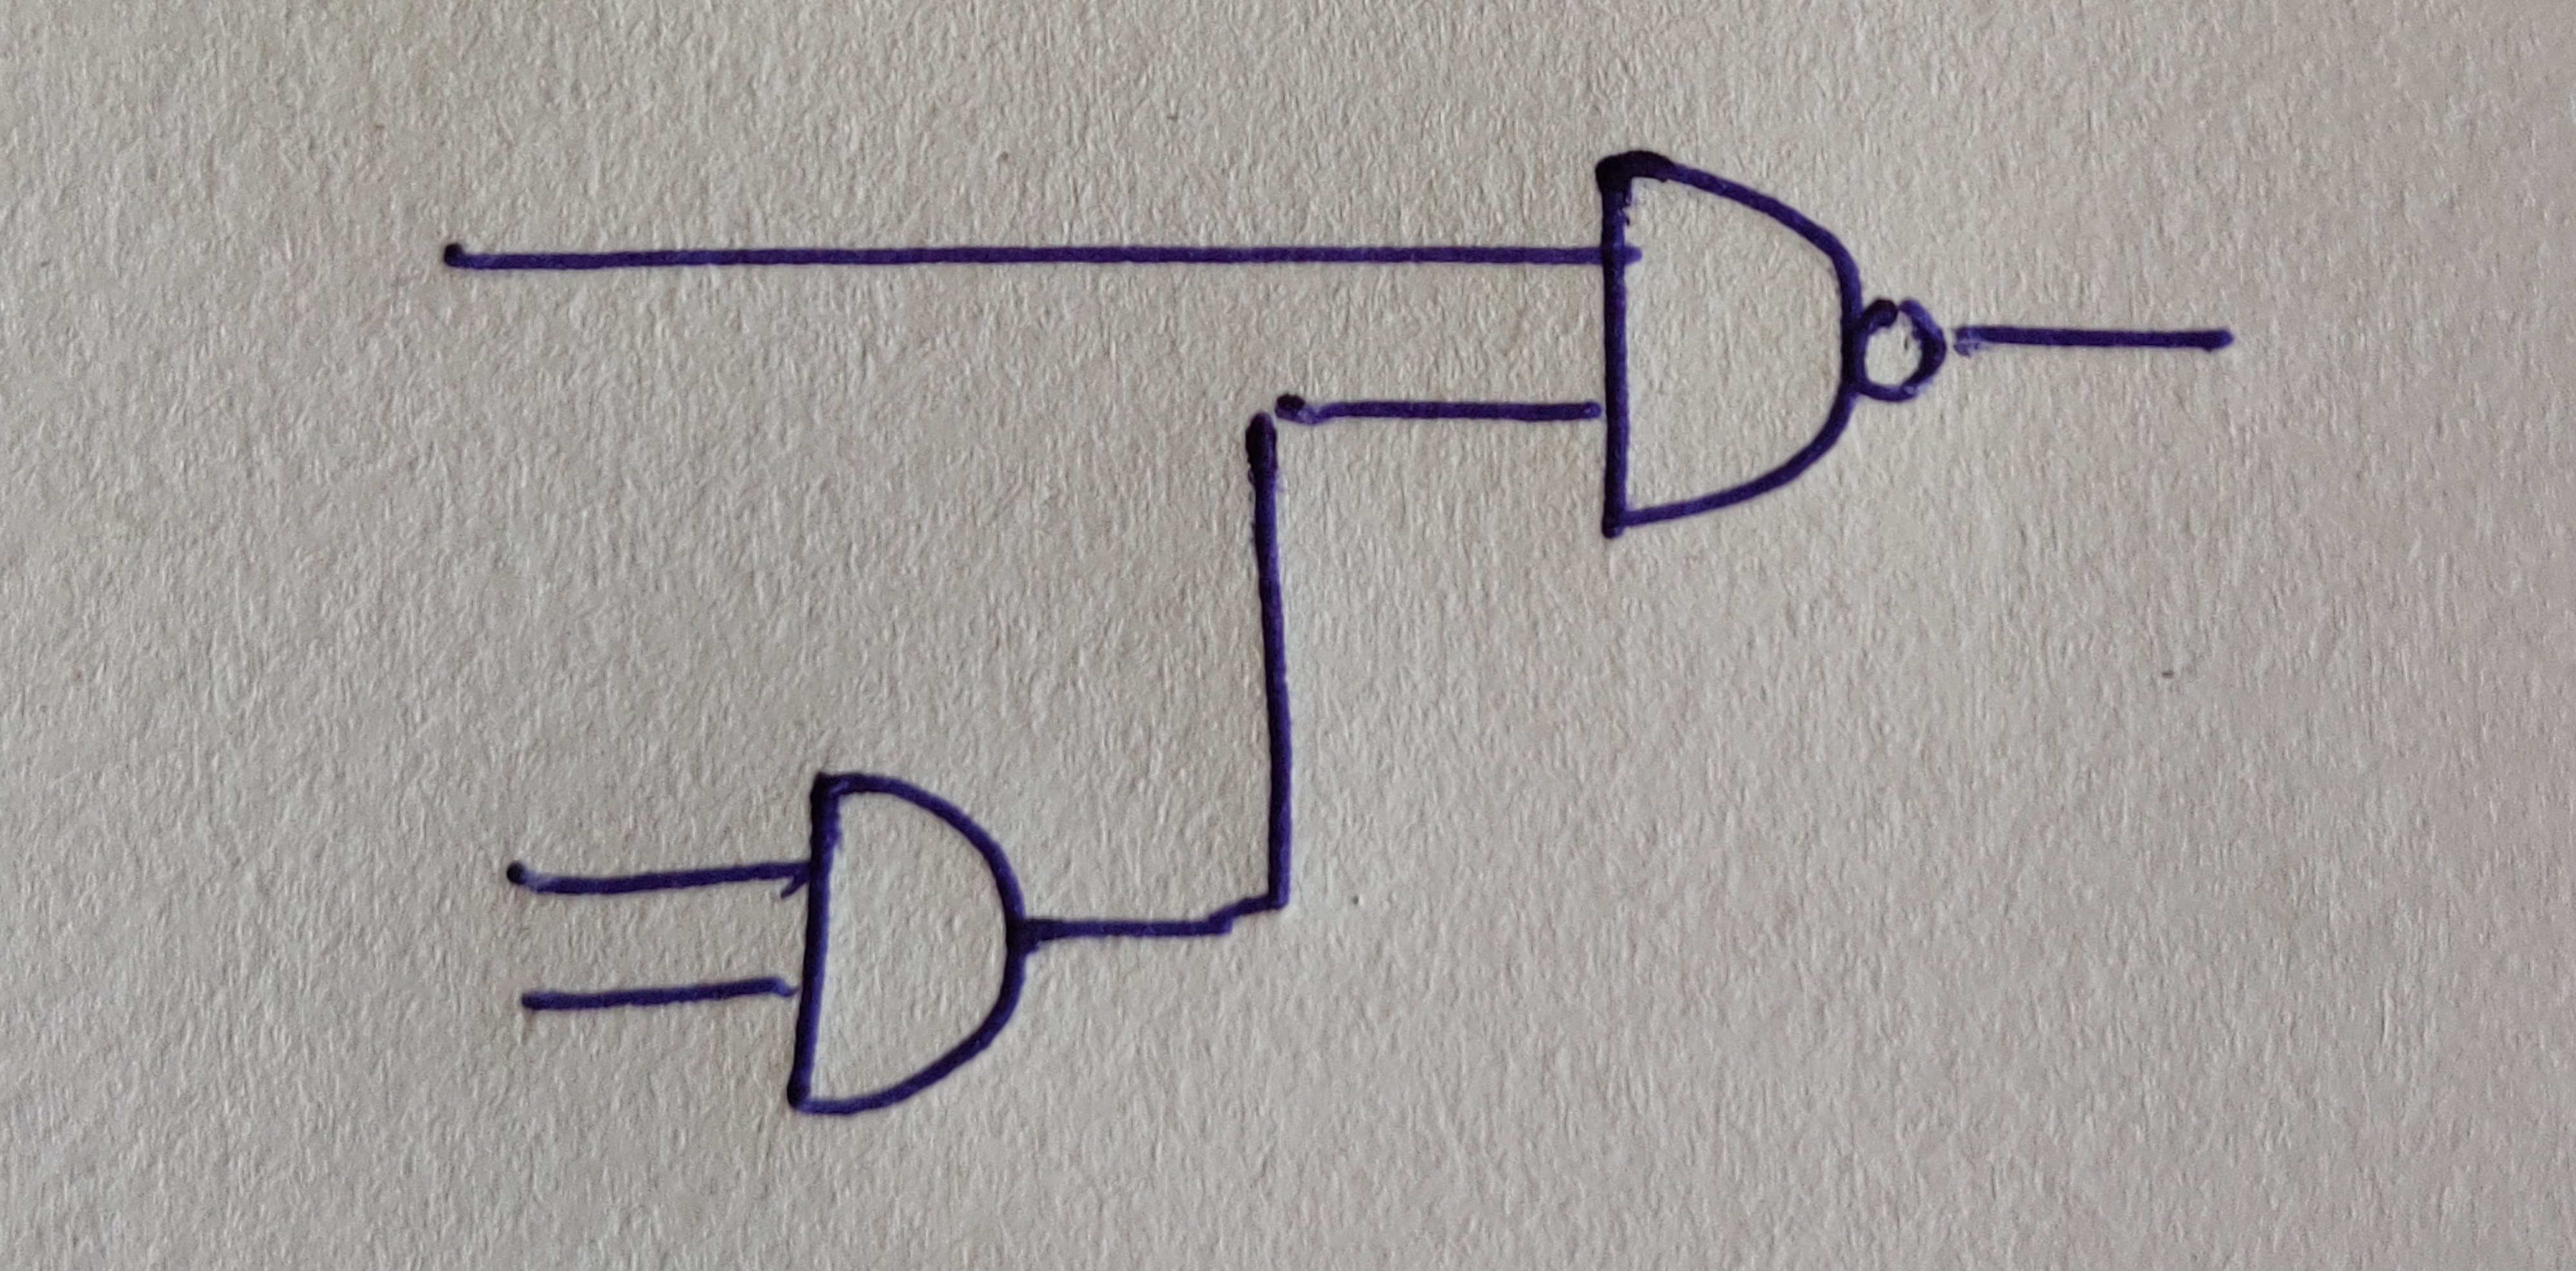and: (1594, 151, 1861, 539), (784, 773, 1023, 1115)
not: (1858, 296, 1947, 403)
